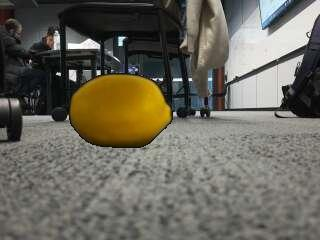lemon: (71, 74, 172, 147)
